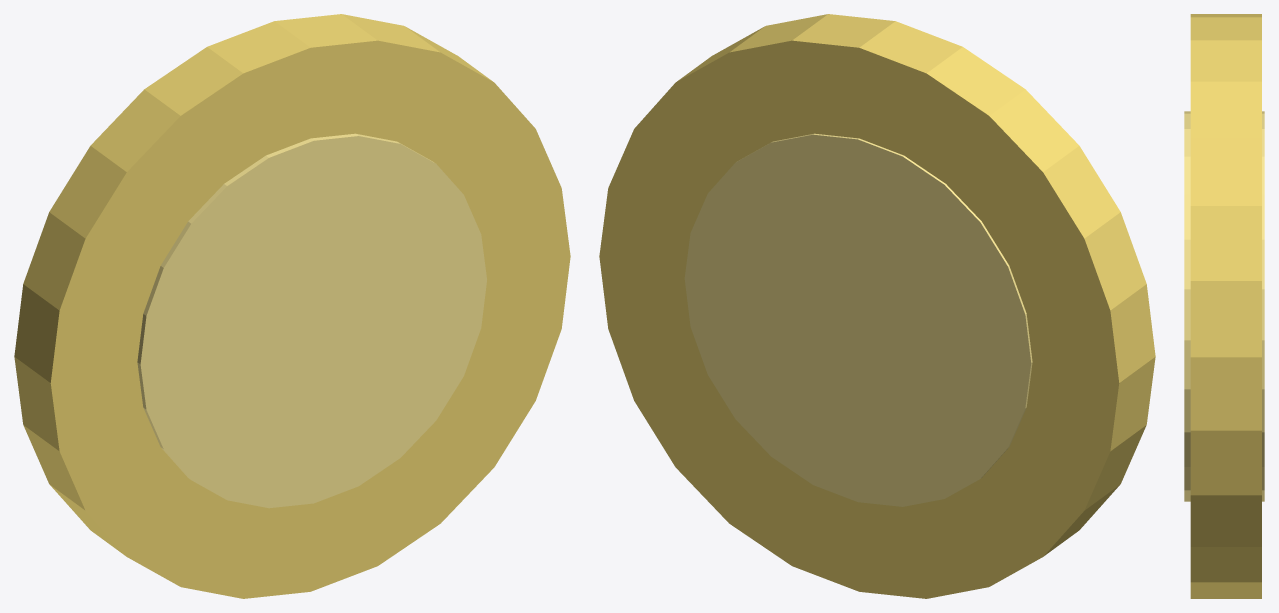
File: pickup_gold_coin.glb
3 views of the same model, side by side, from view 1: azimuth 30°, elevation 25°; view 2: azimuth 150°, elevation 25°; view 3: azimuth 270°, elevation 25° (orthographic). The views are drawn at different scales.
Parts seen in each view (by area): view 1: coin, coin_inner; view 2: coin, coin_inner; view 3: coin, coin_inner.
Boxes of the visible parts, x1,y1,x2,y2 form: coin: (14, 14, 570, 598); coin_inner: (137, 133, 486, 508); coin: (599, 14, 1155, 598); coin_inner: (684, 133, 1032, 506); coin: (1190, 14, 1261, 598); coin_inner: (1184, 111, 1264, 501).
Bounding box in the file's own units: 0.66 × 0.66 × 0.09.
